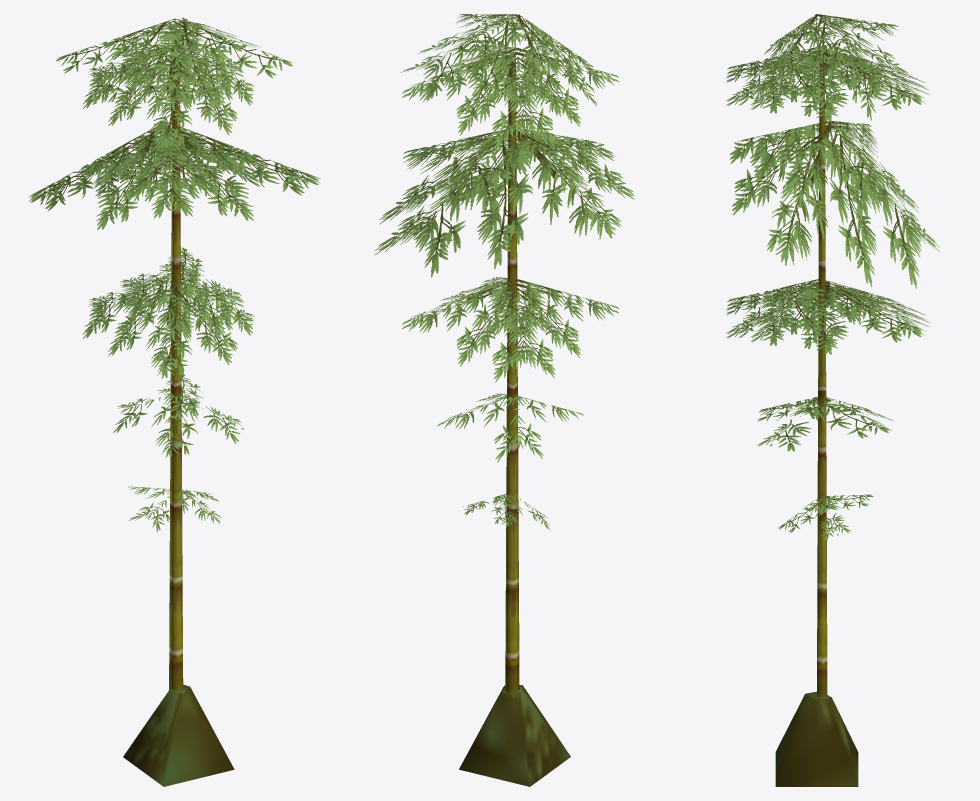
File: flora_tree_bamboo_single.glb
3 renders of one model, left to right at view 1: azimuth 30°, elevation 25°; view 2: azimuth 150°, elevation 25°; view 3: azimuth 270°, elevation 25°, orthographic.
Parts seen in each view (by area): view 1: flora_tree_bamboo_single_part0; view 2: flora_tree_bamboo_single_part0; view 3: flora_tree_bamboo_single_part0.
Boxes of the visible parts, x1=… form: flora_tree_bamboo_single_part0: x1=29, y1=17, x2=320, y2=786; flora_tree_bamboo_single_part0: x1=374, y1=14, x2=634, y2=786; flora_tree_bamboo_single_part0: x1=726, y1=14, x2=939, y2=786.
Bounding box in the file's own units: 7.25 × 18.78 × 6.42.
Materials: 1 (1 with a texture image).
